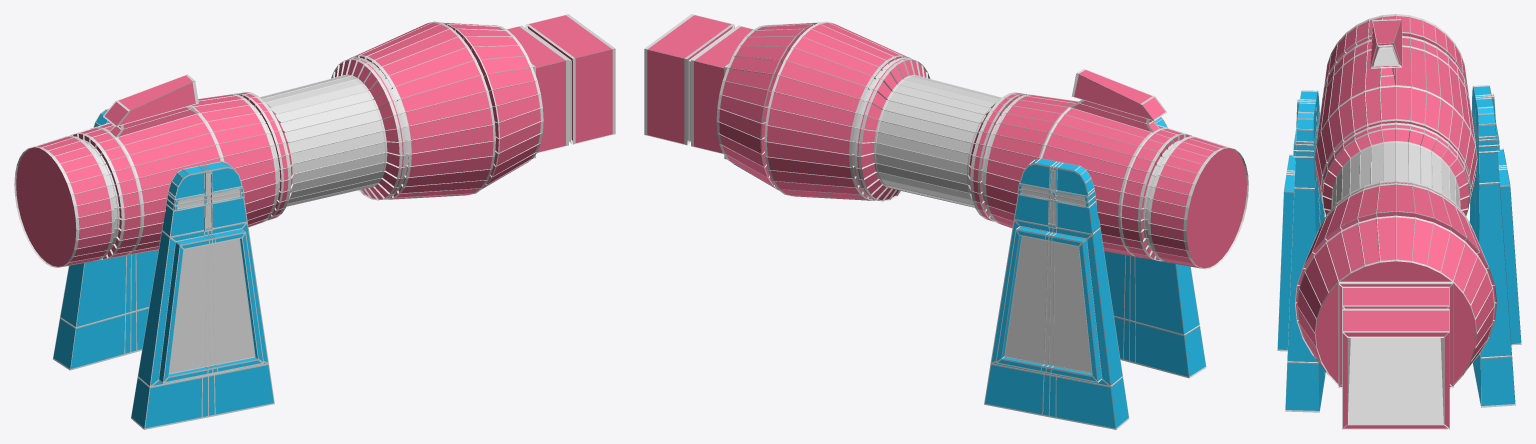
The model's file is LedCannon.fbx.
The picture shows the model from 3 angles, left to right: view 1: azimuth 30°, elevation 25°; view 2: azimuth 150°, elevation 25°; view 3: azimuth 270°, elevation 25°; orthographic projection. The views are drawn at different scales.
Parts seen in each view (by area): view 1: Cylinder.000, Cube.001, Cylinder.001, Cube; view 2: Cylinder.000, Cube.001, Cylinder.001, Cube; view 3: Cylinder.000, Cube.001, Cylinder.001, Cube.
Boxes of the visible parts, x1,y1,x2,y2 form: Cylinder.000: (16, 15, 612, 266); Cube.001: (53, 110, 273, 428); Cylinder.001: (14, 14, 615, 267); Cube: (53, 108, 274, 429); Cylinder.000: (647, 15, 1246, 268); Cube.001: (985, 117, 1205, 428); Cylinder.001: (644, 14, 1248, 269); Cube: (984, 117, 1206, 429); Cylinder.000: (1295, 16, 1496, 428); Cube.001: (1277, 86, 1520, 410); Cylinder.001: (1294, 14, 1496, 429); Cube: (1277, 85, 1521, 412).
Bounding box in the file's own units: 720 × 383 × 244.
